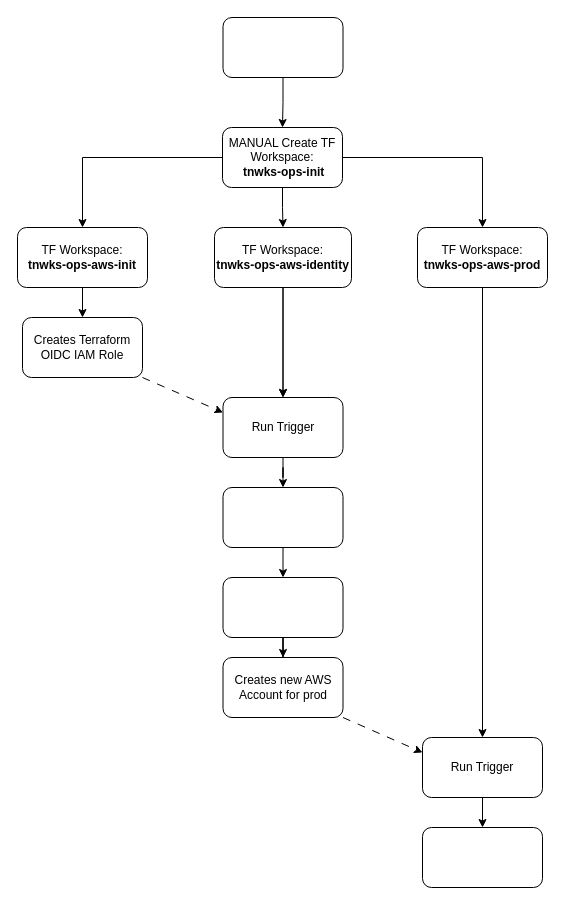
Image size: 565x905. Some labels were removed from this diagram. Here are the shapes that lost their labels. From the top down, the box of each, then its label:
(222, 16, 343, 78): MANUAL Create app.terraform.io Organization: tnwks-ops
(222, 486, 343, 548): Add disable IAM policy to manually created AWS user
(222, 576, 343, 638): Create identity resources and AWS Organizations structure (OU)
(422, 826, 542, 888): Create prod resources
